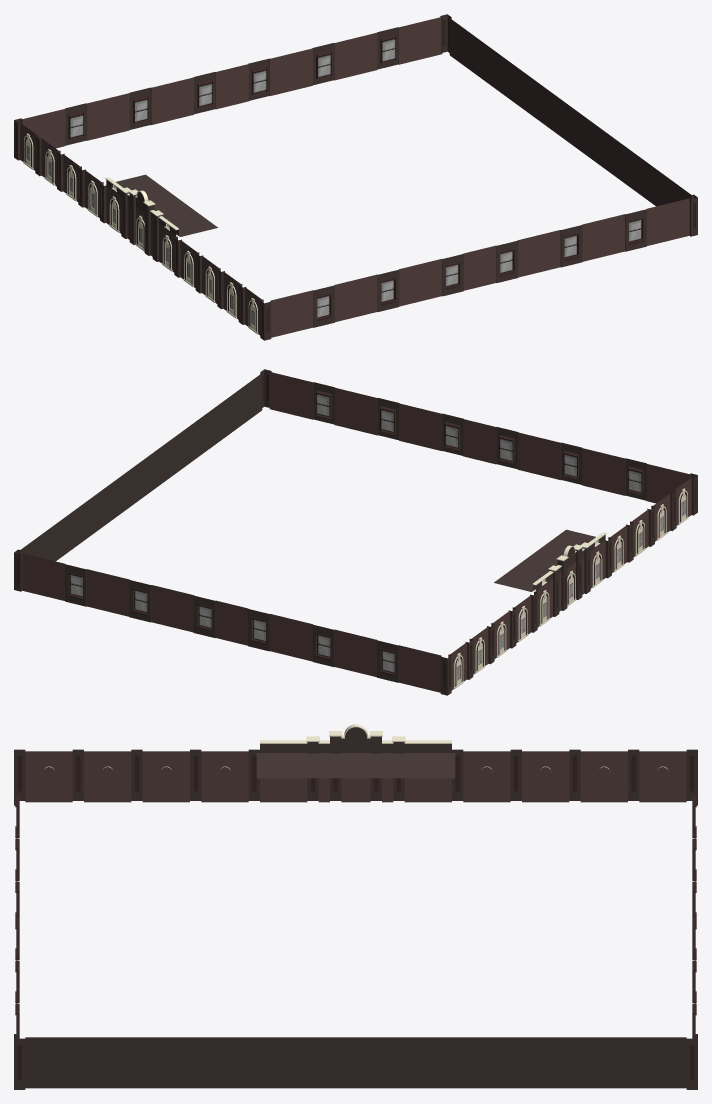
The model's file is BuildingBig3_2.fbx.
3 renders of one model, top to bottom at view 1: azimuth 30°, elevation 25°; view 2: azimuth 150°, elevation 25°; view 3: azimuth 270°, elevation 25°, orthographic. The views are drawn at different scales.
Parts seen in each view (by area): view 1: BuildingBig3_2; view 2: BuildingBig3_2; view 3: BuildingBig3_2.
Part boxes in pixels (bbox=[...]): BuildingBig3_2: bbox=[14, 14, 697, 340]; BuildingBig3_2: bbox=[14, 369, 697, 695]; BuildingBig3_2: bbox=[14, 724, 697, 1089].
Bounding box in the file's own units: 6070 × 760 × 6062.
